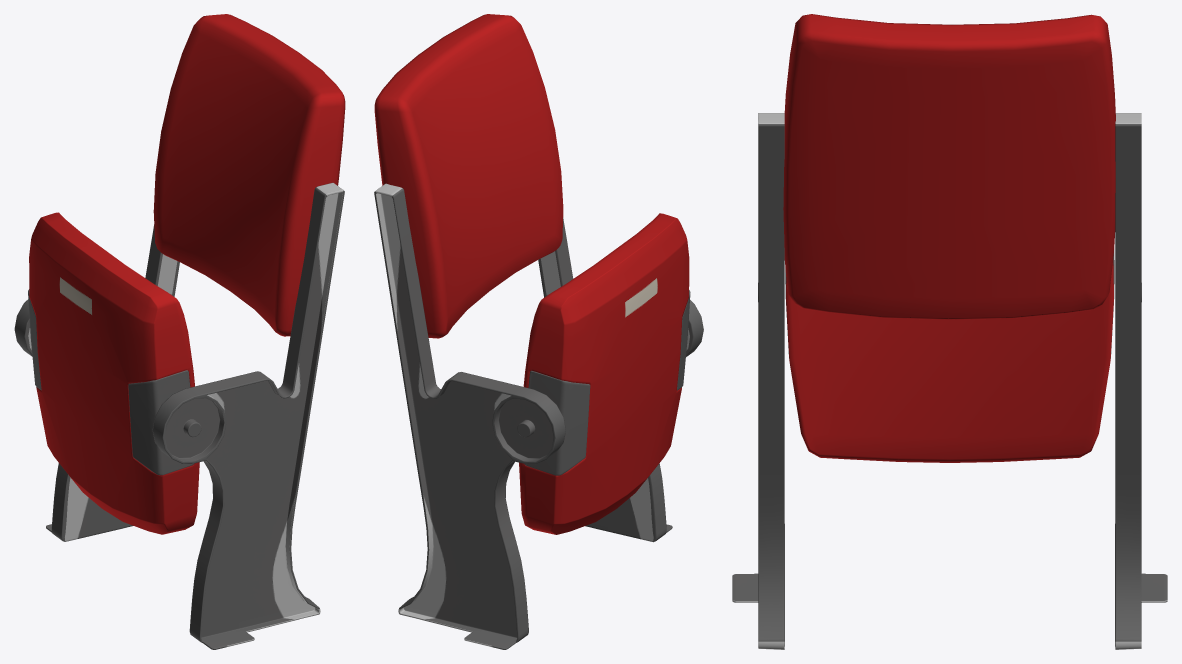
Rendered from SM_073_Chair_5.fbx.
3 views of the same model, side by side, from view 1: azimuth 30°, elevation 25°; view 2: azimuth 150°, elevation 25°; view 3: azimuth 270°, elevation 25° (orthographic). The views are drawn at different scales.
Visible parts, largest first — view 1: SM_073_Chair_5; view 2: SM_073_Chair_5; view 3: SM_073_Chair_5.
Part boxes in pixels (x1,y1,x2,y2): SM_073_Chair_5: (14, 14, 345, 649); SM_073_Chair_5: (374, 14, 703, 649); SM_073_Chair_5: (732, 14, 1167, 649).
Bounding box in the file's own units: 46.88 × 60.47 × 99.41.
1 material, 1 textured.
